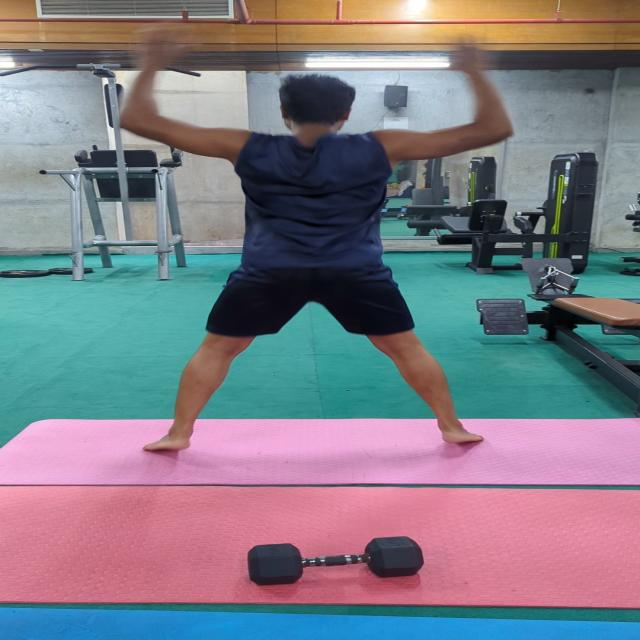Normal_JumpingJacks: (99, 12, 561, 471)
